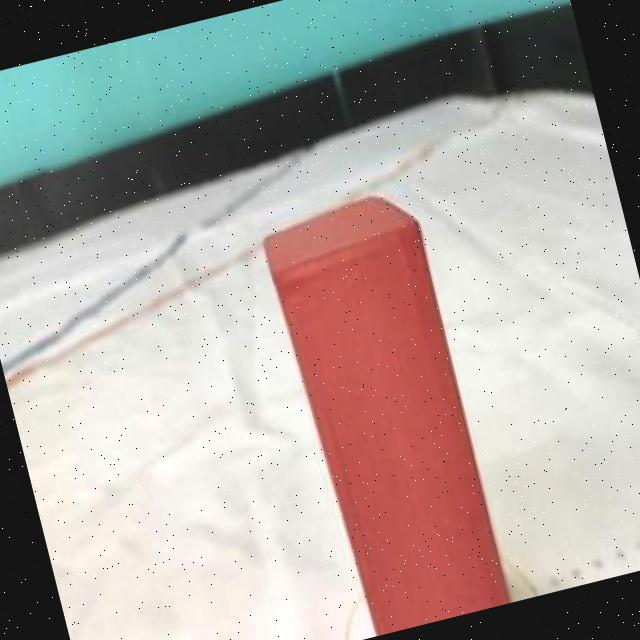redbox: (260, 182, 514, 639)
